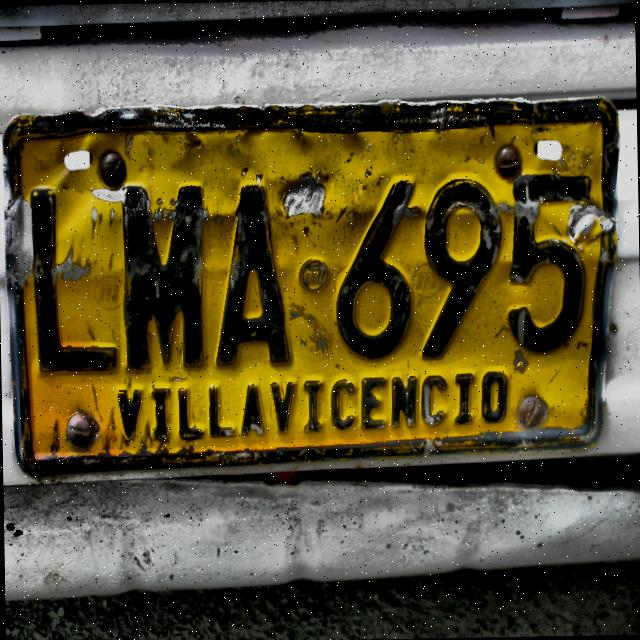5: (506, 166, 597, 365)
6: (329, 174, 416, 362)
9: (415, 173, 505, 364)
A: (209, 176, 293, 371)
L: (28, 181, 120, 378)
M: (118, 179, 208, 374)
